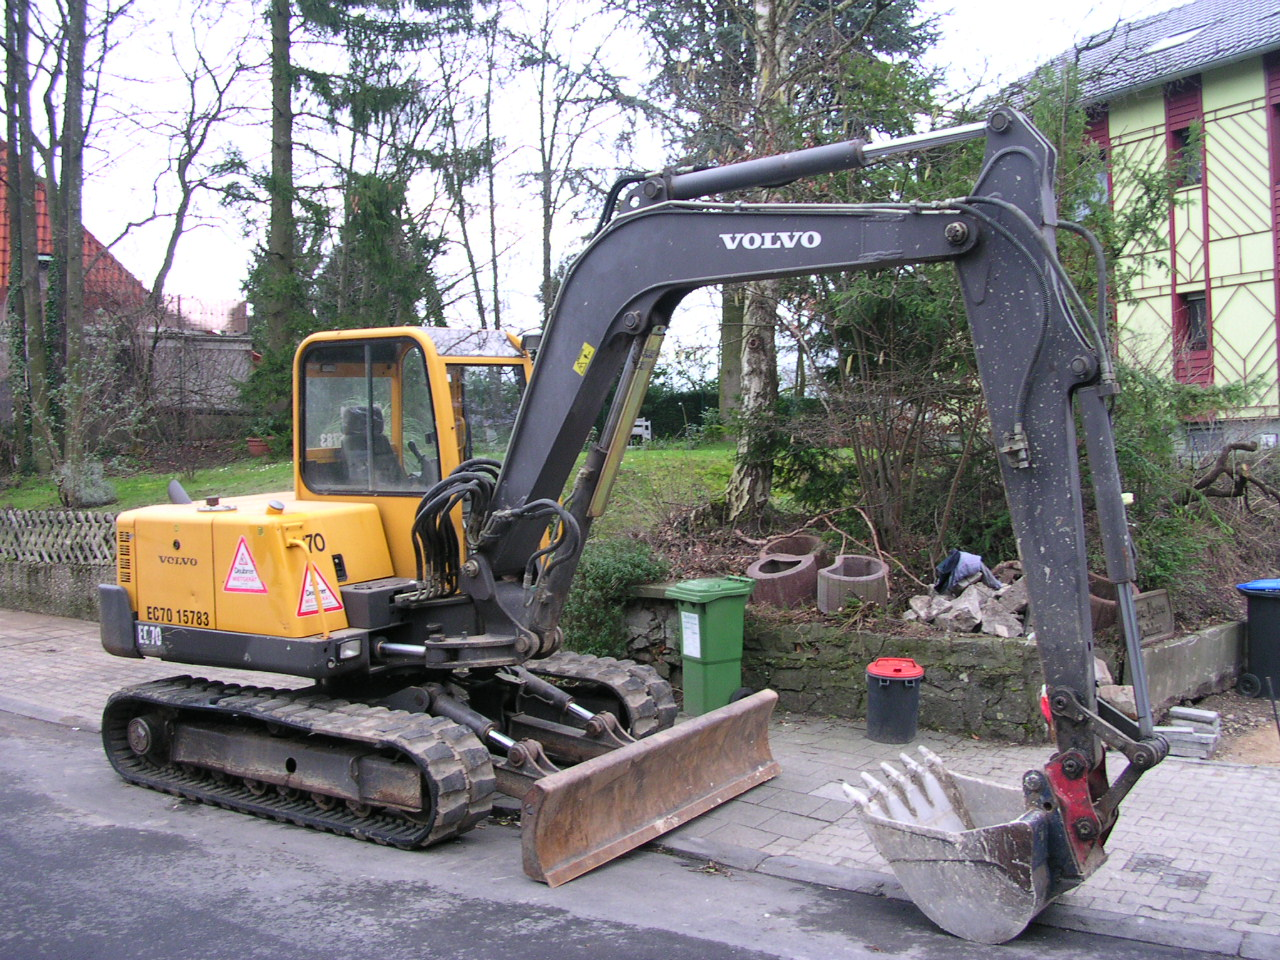excavator: (95, 103, 1183, 945)
